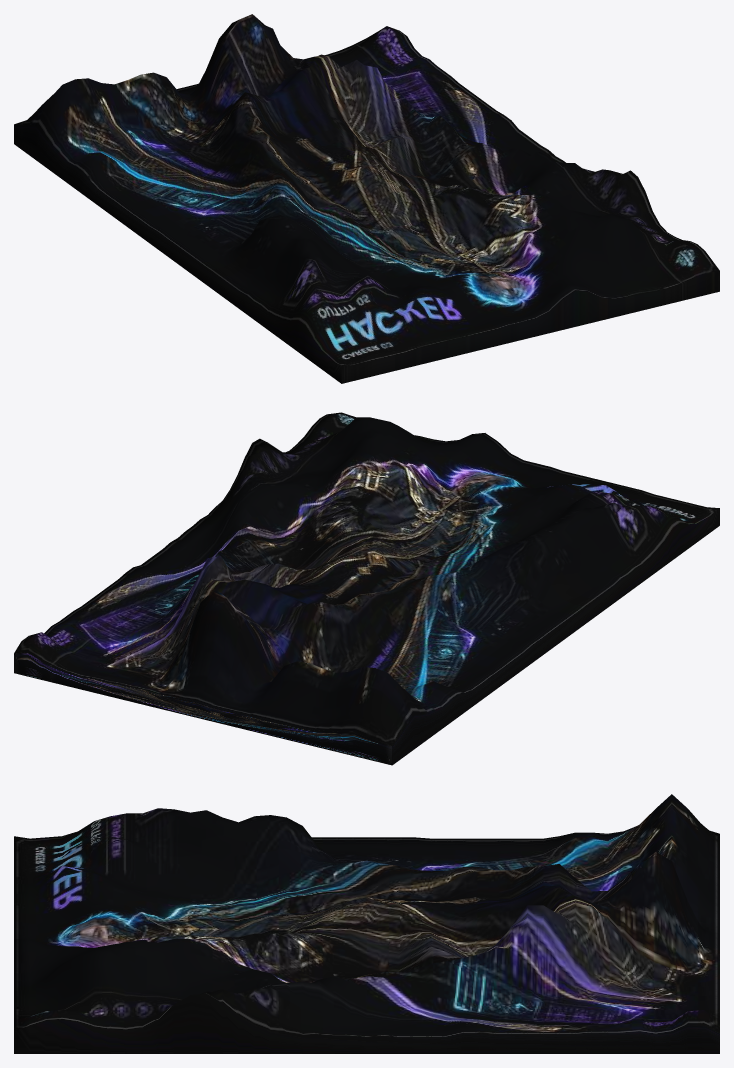
Rendered from CAREER_03_Outfit_05_Supreme.glb.
3 renders of one model, top to bottom at view 1: azimuth 30°, elevation 25°; view 2: azimuth 150°, elevation 25°; view 3: azimuth 270°, elevation 25°, orthographic. The views are drawn at different scales.
Visible parts, largest first — view 1: CAREER_03_Outfit_05_Supreme; view 2: CAREER_03_Outfit_05_Supreme; view 3: CAREER_03_Outfit_05_Supreme.
Boxes of the visible parts, x1,y1,x2,y2 form: CAREER_03_Outfit_05_Supreme: (14, 14, 719, 383); CAREER_03_Outfit_05_Supreme: (14, 412, 719, 765); CAREER_03_Outfit_05_Supreme: (14, 794, 719, 1053).
Size of the model in its own units: 2 by 0.51 by 3.
Materials: 1 (1 with a texture image).
